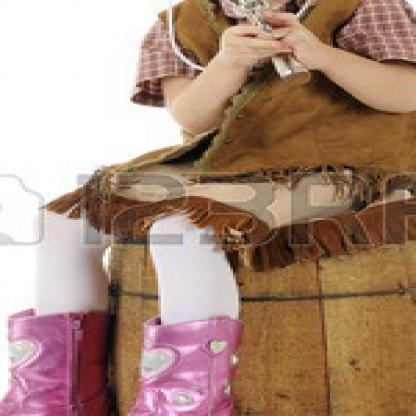gun: (208, 0, 311, 82)
